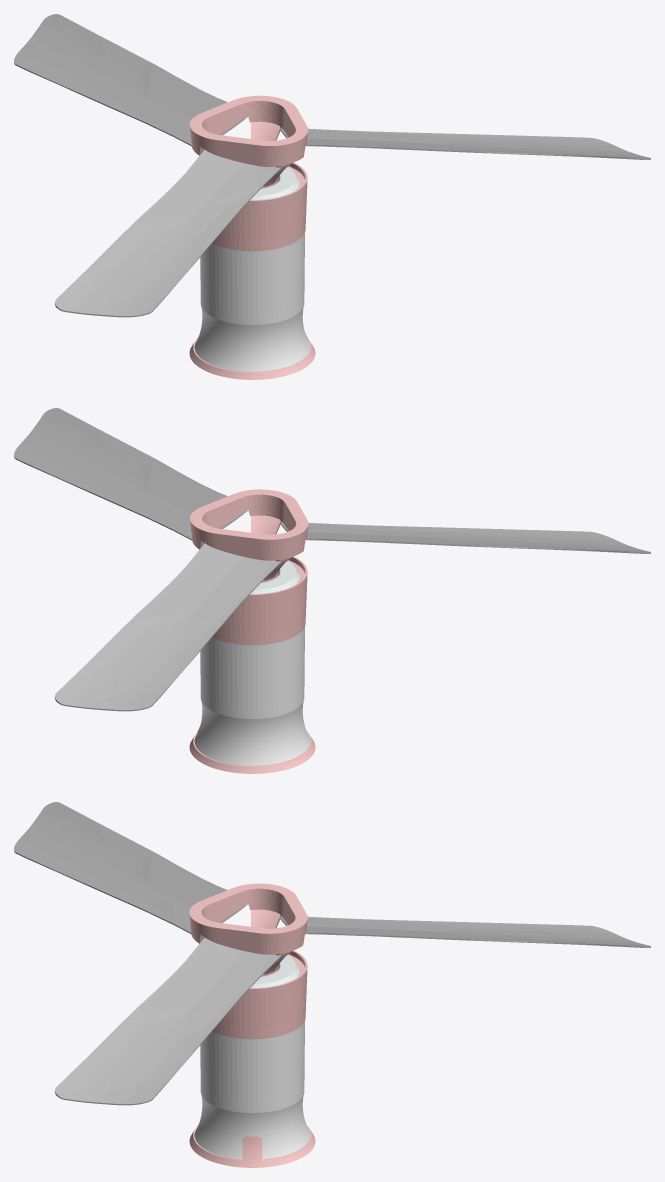
Rendered from airoelevate.glb.
The picture shows the model from 3 angles, top to bottom: view 1: azimuth 30°, elevation 25°; view 2: azimuth 150°, elevation 25°; view 3: azimuth 270°, elevation 25°; orthographic projection.
Visible parts, largest first — view 1: Node1, Node4, Node2, Node5, Node3; view 2: Node1, Node4, Node2, Node5, Node3; view 3: Node1, Node2, Node4, Node5, Node3.
Boxes of the visible parts, x1,y1,x2,y2 form: Node1: [14, 14, 650, 317]; Node4: [194, 233, 310, 371]; Node2: [189, 95, 315, 379]; Node5: [55, 222, 202, 316]; Node3: [250, 167, 299, 199]; Node1: [14, 408, 650, 711]; Node4: [194, 627, 310, 765]; Node2: [189, 489, 315, 773]; Node5: [463, 528, 650, 552]; Node3: [250, 561, 299, 593]; Node1: [14, 850, 650, 1105]; Node2: [189, 883, 315, 1167]; Node4: [194, 1021, 310, 1159]; Node5: [14, 802, 154, 885]; Node3: [250, 955, 299, 987].
Bounding box in the file's own units: 986 × 363 × 907.
